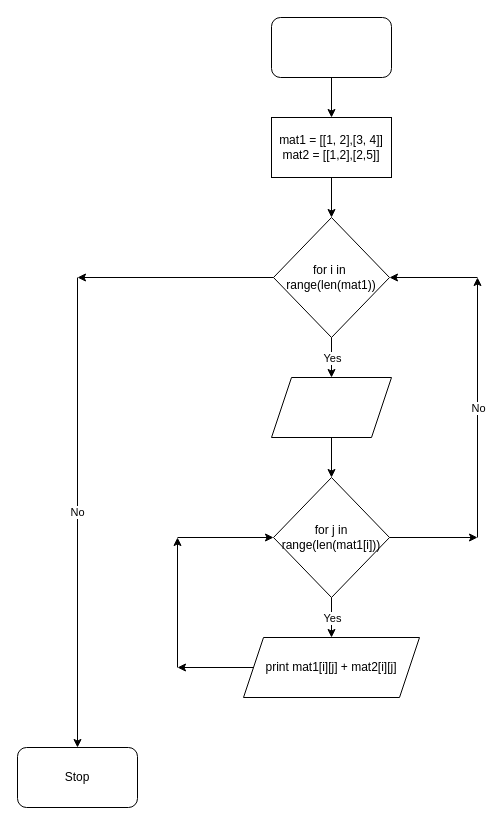
Image size: 503x825. Some labels were removed from this diagram. Each missing label, with the centre of its shape:
print "\n": the point at 331,407
Start: the point at 331,47
